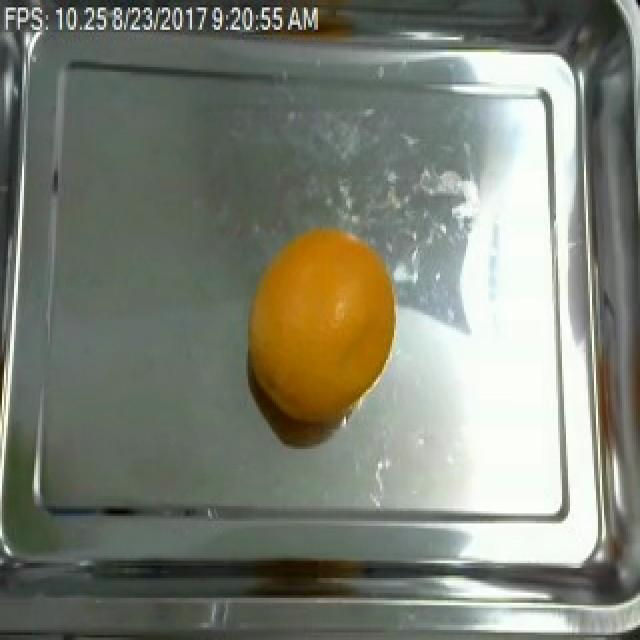Fruit: (242, 216, 406, 429)
